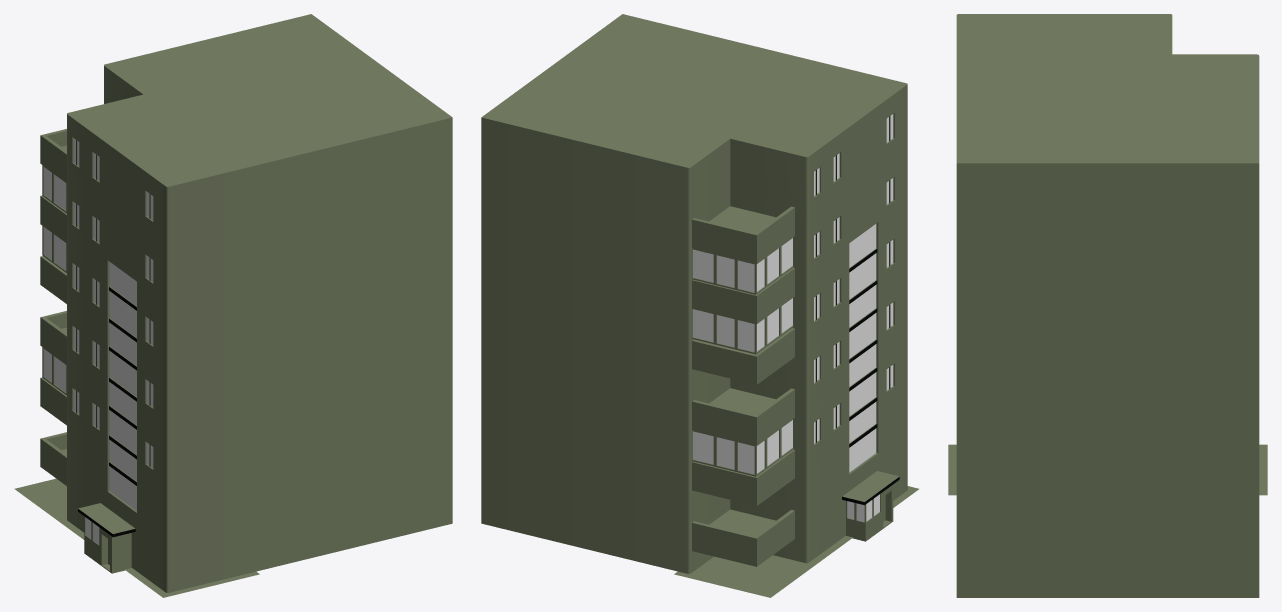
The model's file is Building_1_Flip.fbx.
3 renders of one model, left to right at view 1: azimuth 30°, elevation 25°; view 2: azimuth 150°, elevation 25°; view 3: azimuth 270°, elevation 25°, orthographic. The views are drawn at different scales.
Visible parts, largest first — view 1: Box002; view 2: Box002; view 3: Box002.
Boxes of the visible parts, left/top/right/bottom form: Box002: left=14, top=14, right=452, bottom=597; Box002: left=481, top=14, right=918, bottom=597; Box002: left=948, top=14, right=1267, bottom=597.
Bounding box in the file's own units: 956 × 1206 × 800.
